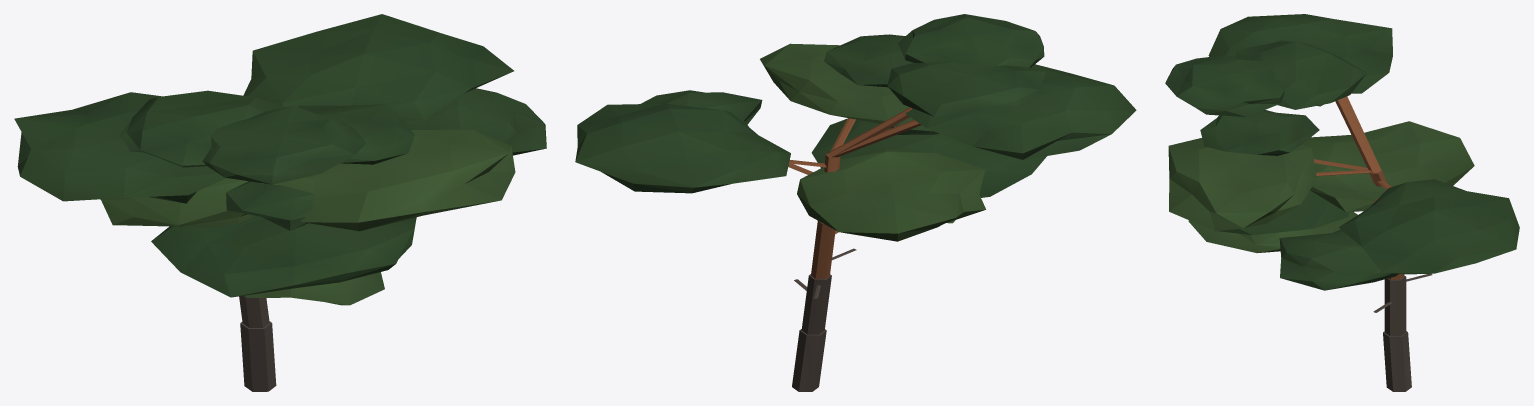
Rendered from veg_tall_2.glb.
3 views of the same model, side by side, from view 1: azimuth 30°, elevation 25°; view 2: azimuth 150°, elevation 25°; view 3: azimuth 270°, elevation 25° (orthographic). The views are drawn at different scales.
Visible parts, largest first — view 1: geometry_0; view 2: geometry_0; view 3: geometry_0.
Boxes of the visible parts, left/top/right/bottom form: geometry_0: left=14, top=14, right=546, bottom=391; geometry_0: left=575, top=14, right=1136, bottom=391; geometry_0: left=1165, top=14, right=1519, bottom=391.
Bounding box in the file's own units: 1.62 × 1 × 1.15.
